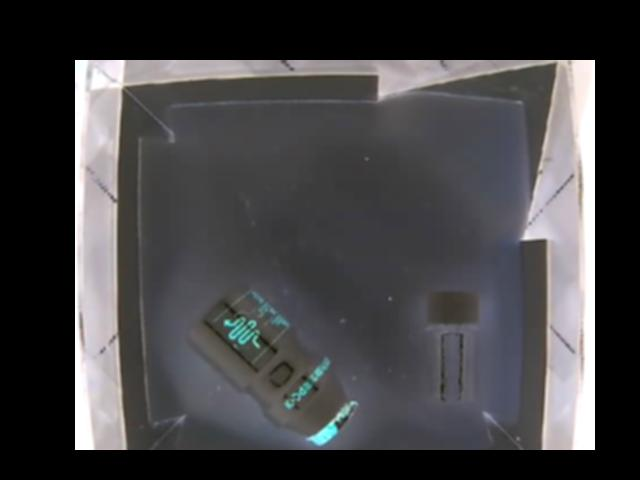Bottle: (190, 280, 359, 445), (422, 290, 479, 411)
